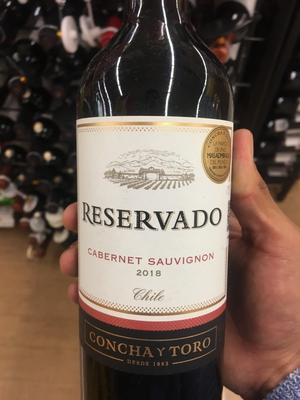reservado cabernet sauvignon: (78, 5, 230, 387)
